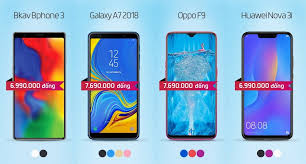bphone: (10, 28, 69, 143), (83, 26, 142, 141), (162, 26, 221, 141), (238, 25, 297, 140)
